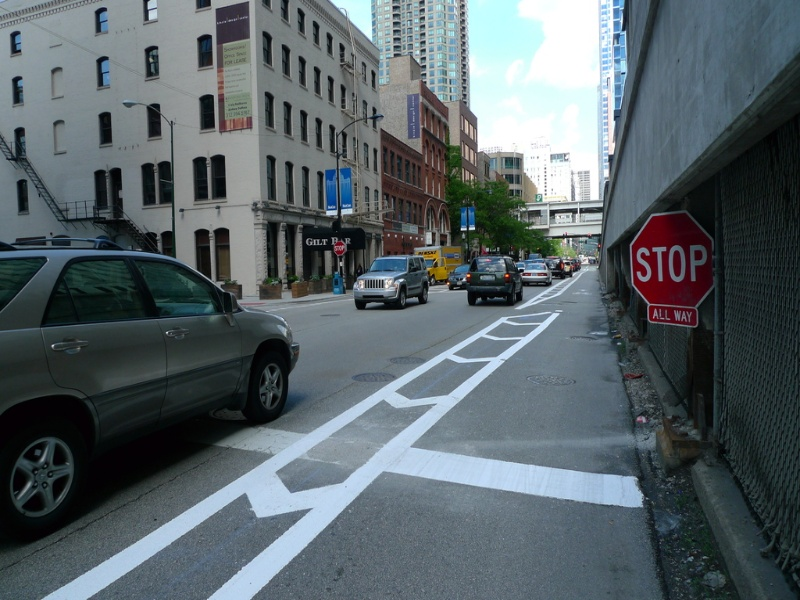all_way: (636, 309, 713, 336)
stop: (627, 215, 719, 306)
